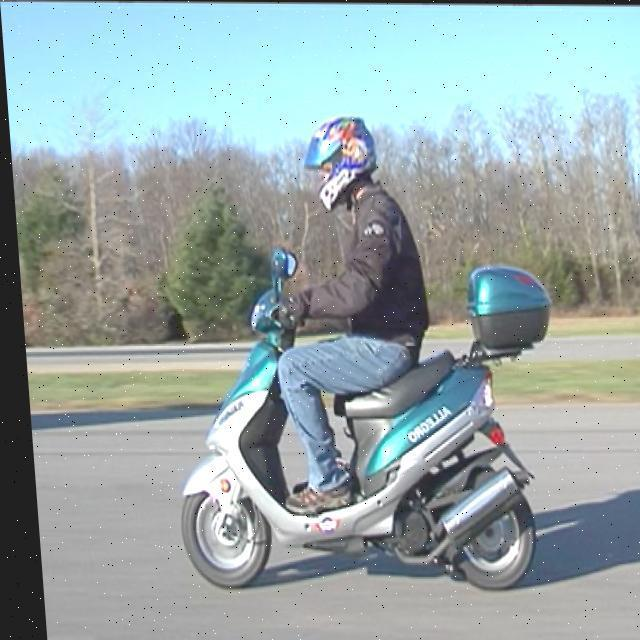Helmet: (302, 100, 384, 212)
